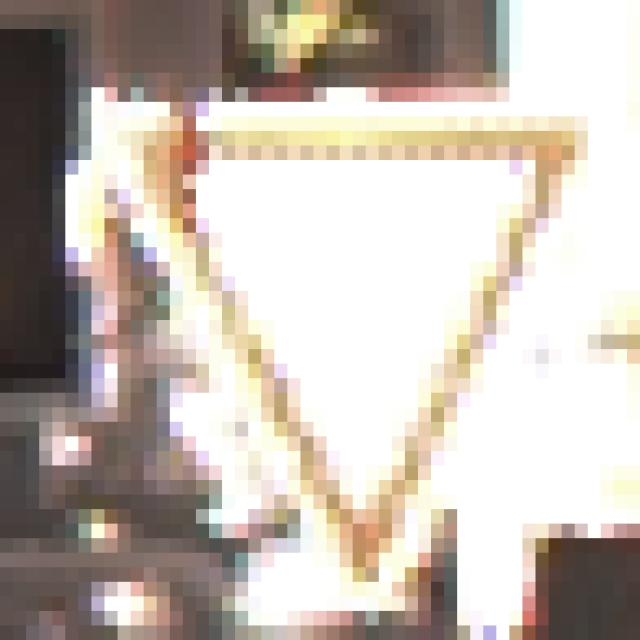Give Way: (79, 74, 576, 568)
